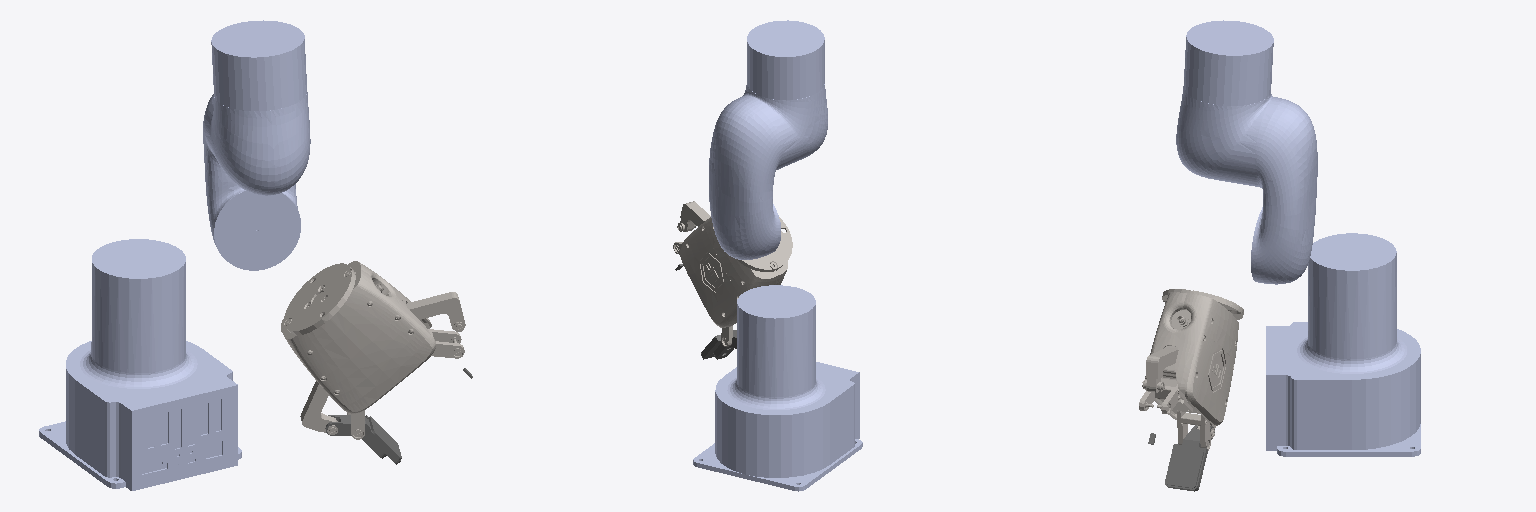
URDF robot description (Lite6SW3):
<?xml version="1.0" encoding="utf-8"?>
<!-- This URDF was automatically created by SolidWorks to URDF Exporter! Originally created by [author] ([email redacted]) 
     Commit Version: 1.6.0-1-g15f4949  Build Version: 1.6.7594.29634
     For more information, please see http://wiki.ros.org/sw_urdf_exporter -->
<robot
  name="Lite6SW3">
  <link
    name="Link0">
    <inertial>
      <origin
        xyz="0.0187322287468848 -6.56268388412881E-05 -0.0018327007667883"
        rpy="0 0 0" />
      <mass
        value="1.65199774001772" />
      <inertia
        ixx="0.00540779041066965"
        ixy="-1.72431674672101E-07"
        ixz="-8.16857492341207E-08"
        iyy="0.0050429459667963"
        iyz="-0.000338002907863305"
        izz="0.00334480903849763" />
    </inertial>
    <visual>
      <origin
        xyz="0 0 0"
        rpy="0 0 0" />
      <geometry>
        <mesh
          filename="package://Lite6SW3/meshes/Link0.STL" />
      </geometry>
      <material
        name="">
        <color
          rgba="0.792156862745098 0.819607843137255 0.933333333333333 1" />
      </material>
    </visual>
    <collision>
      <origin
        xyz="0 0 0"
        rpy="0 0 0" />
      <geometry>
        <mesh
          filename="package://Lite6SW3/meshes/Link0.STL" />
      </geometry>
    </collision>
  </link>
  <link
    name="Link1">
    <inertial>
      <origin
        xyz="0.0151275932238549 0.0579204493545035 2.19551584875691E-06"
        rpy="0 0 0" />
      <mass
        value="0.768991147574956" />
      <inertia
        ixx="0.000943626498667019"
        ixy="-0.000157292714284293"
        ixz="2.15996612593555E-07"
        iyy="0.00109494607083285"
        iyz="-2.22121831785138E-07"
        izz="0.00140822699612183" />
    </inertial>
    <visual>
      <origin
        xyz="0 0 0"
        rpy="0 0 0" />
      <geometry>
        <mesh
          filename="package://Lite6SW3/meshes/Link1.STL" />
      </geometry>
      <material
        name="">
        <color
          rgba="0.792156862745098 0.819607843137255 0.933333333333333 1" />
      </material>
    </visual>
    <collision>
      <origin
        xyz="0 0 0"
        rpy="0 0 0" />
      <geometry>
        <mesh
          filename="package://Lite6SW3/meshes/Link1.STL" />
      </geometry>
    </collision>
  </link>
  <joint
    name="Joint1"
    type="revolute">
    <origin
      xyz="0.01873370459204 0.00814213077337103 0.108012813287898"
      rpy="1.5707963267949 0 0.4446615678785" />
    <parent
      link="Link0" />
    <child
      link="Link1" />
    <axis
      xyz="0 1 0" />
    <limit
      lower="-3.14"
      upper="3.14"
      effort="187"
      velocity="1" />
  </joint>
  <link
    name="Link2">
    <inertial>
      <origin
        xyz="0.0393674312059471 0.114689083476682 -1.16044806437732E-07"
        rpy="0 0 0" />
      <mass
        value="1.07641986433027" />
      <inertia
        ixx="0.00746475214661092"
        ixy="0.000698701711095762"
        ixz="1.87680189054837E-09"
        iyy="0.00101416666242391"
        iyz="2.16807495952089E-08"
        izz="0.0076258806756479" />
    </inertial>
    <visual>
      <origin
        xyz="0 0 0"
        rpy="0 0 0" />
      <geometry>
        <mesh
          filename="package://Lite6SW3/meshes/Link2.STL" />
      </geometry>
      <material
        name="">
        <color
          rgba="0.792156862745098 0.819607843137255 0.933333333333333 1" />
      </material>
    </visual>
    <collision>
      <origin
        xyz="0 0 0"
        rpy="0 0 0" />
      <geometry>
        <mesh
          filename="package://Lite6SW3/meshes/Link2.STL" />
      </geometry>
    </collision>
  </link>
  <joint
    name="Joint2"
    type="revolute">
    <origin
      xyz="0.0634024303578008 0.0700027545007157 0"
      rpy="0.166849117202446 0 0" />
    <parent
      link="Link1" />
    <child
      link="Link2" />
    <axis
      xyz="1 0 0" />
    <limit
      lower="-3.14"
      upper="3.14"
      effort="187"
      velocity="1" />
  </joint>
  <link
    name="Link3">
    <inertial>
      <origin
        xyz="-0.0609958261995253 -0.0374546172672344 -0.000573221171941529"
        rpy="0 0 0" />
      <mass
        value="0.765154285498414" />
      <inertia
        ixx="0.00178429539911025"
        ixy="-9.39526332109624E-05"
        ixz="4.19008160447528E-06"
        iyy="0.000627175753759267"
        iyz="-6.64736636610338E-05"
        izz="0.00183654237180399" />
    </inertial>
    <visual>
      <origin
        xyz="0 0 0"
        rpy="0 0 0" />
      <geometry>
        <mesh
          filename="package://Lite6SW3/meshes/Link3.STL" />
      </geometry>
      <material
        name="">
        <color
          rgba="0.792156862745098 0.819607843137255 0.933333333333333 1" />
      </material>
    </visual>
    <collision>
      <origin
        xyz="0 0 0"
        rpy="0 0 0" />
      <geometry>
        <mesh
          filename="package://Lite6SW3/meshes/Link3.STL" />
      </geometry>
    </collision>
  </link>
  <joint
    name="Joint3"
    type="revolute">
    <origin
      xyz="0 0.199999999987166 0"
      rpy="-1.79231046331988 0 0" />
    <parent
      link="Link2" />
    <child
      link="Link3" />
    <axis
      xyz="1 0 0" />
    <limit
      lower="-3.14"
      upper="3.14"
      effort="187"
      velocity="1" />
  </joint>
  <link
    name="Link4">
    <inertial>
      <origin
        xyz="0.0251920501140432 -6.41817619190244E-07 -0.0959447863668743"
        rpy="0 0 0" />
      <mass
        value="1.19946358045584" />
      <inertia
        ixx="0.00242244309778775"
        ixy="-2.18181320847622E-08"
        ixz="0.000758521584574718"
        iyy="0.00315206957190798"
        iyz="2.52477601874618E-09"
        izz="0.00172762941740964" />
    </inertial>
    <visual>
      <origin
        xyz="0 0 0"
        rpy="0 0 0" />
      <geometry>
        <mesh
          filename="package://Lite6SW3/meshes/Link4.STL" />
      </geometry>
      <material
        name="">
        <color
          rgba="0.792156862745098 0.819607843137255 0.933333333333333 1" />
      </material>
    </visual>
    <collision>
      <origin
        xyz="0 0 0"
        rpy="0 0 0" />
      <geometry>
        <mesh
          filename="package://Lite6SW3/meshes/Link4.STL" />
      </geometry>
    </collision>
  </link>
  <joint
    name="Joint4"
    type="revolute">
    <origin
      xyz="-0.063102409341005 -0.0870000000340598 -0.0367635042013723"
      rpy="0 0 0.821810771980739" />
    <parent
      link="Link3" />
    <child
      link="Link4" />
    <axis
      xyz="0 0 1" />
    <limit
      lower="-3.14"
      upper="3.14"
      effort="187"
      velocity="1" />
  </joint>
  <link
    name="Link5">
    <inertial>
      <origin
        xyz="0.00343463057873998 -1.97179458061303E-06 -0.00164401922371229"
        rpy="0 0 0" />
      <mass
        value="0.407452669039166" />
      <inertia
        ixx="0.000358680591599888"
        ixy="-1.00900293705433E-08"
        ixz="-6.27685977104768E-06"
        iyy="0.000380454223401458"
        iyz="9.57050468134867E-09"
        izz="0.000334589727767483" />
    </inertial>
    <visual>
      <origin
        xyz="0 0 0"
        rpy="0 0 0" />
      <geometry>
        <mesh
          filename="package://Lite6SW3/meshes/Link5.STL" />
      </geometry>
      <material
        name="">
        <color
          rgba="0.792156862745098 0.819607843137255 0.933333333333333 1" />
      </material>
    </visual>
    <collision>
      <origin
        xyz="0 0 0"
        rpy="0 0 0" />
      <geometry>
        <mesh
          filename="package://Lite6SW3/meshes/Link5.STL" />
      </geometry>
    </collision>
  </link>
  <joint
    name="Joint5"
    type="revolute">
    <origin
      xyz="0 0 -0.190346492889003"
      rpy="-0.670253176766057 0 0" />
    <parent
      link="Link4" />
    <child
      link="Link5" />
    <axis
      xyz="1 0 0" />
    <limit
      lower="-3.14"
      upper="3.14"
      effort="24"
      velocity="1" />
  </joint>
  <link
    name="Link6">
    <inertial>
      <origin
        xyz="-0.000205287529503453 -0.000431985584820965 -0.0521159158328269"
        rpy="0 0 0" />
      <mass
        value="0.0844258078209592" />
      <inertia
        ixx="3.65814863001815E-05"
        ixy="-2.96217183969848E-08"
        ixz="3.62773534330086E-08"
        iyy="3.631438997443E-05"
        iyz="-6.16706110817421E-08"
        izz="6.56234046220339E-05" />
    </inertial>
    <visual>
      <origin
        xyz="0 0 0"
        rpy="0 0 0" />
      <geometry>
        <mesh
          filename="package://Lite6SW3/meshes/Link6.STL" />
      </geometry>
      <material
        name="">
        <color
          rgba="0.792156862745098 0.819607843137255 0.933333333333333 1" />
      </material>
    </visual>
    <collision>
      <origin
        xyz="0 0 0"
        rpy="0 0 0" />
      <geometry>
        <mesh
          filename="package://Lite6SW3/meshes/Link6.STL" />
      </geometry>
    </collision>
  </link>
  <joint
    name="Joint6"
    type="revolute">
    <origin
      xyz="0 0 0"
      rpy="0 0 2.30520604102373" />
    <parent
      link="Link5" />
    <child
      link="Link6" />
    <axis
      xyz="0 0 1" />
    <limit
      lower="-3.14"
      upper="3.14"
      effort="24"
      velocity="1" />
  </joint>
  <link
    name="Link_hand">
    <inertial>
      <origin
        xyz="0.0108713499627958 0.124749513433011 0.161319806956366"
        rpy="0 0 0" />
      <mass
        value="2.83243689369596E-05" />
      <inertia
        ixx="2.6242801210731E-08"
        ixy="2.44461258450611E-10"
        ixz="-1.93357940811343E-10"
        iyy="3.26967390920057E-08"
        iyz="1.5561456149065E-09"
        izz="5.63666155419609E-08" />
    </inertial>
    <visual>
      <origin
        xyz="0 0 0"
        rpy="0 0 0" />
      <geometry>
        <mesh
          filename="package://Lite6SW3/meshes/Link_hand.STL" />
      </geometry>
      <material
        name="">
        <color
          rgba="0.776470588235294 0.756862745098039 0.737254901960784 1" />
      </material>
    </visual>
    <collision>
      <origin
        xyz="0 0 0"
        rpy="0 0 0" />
      <geometry>
        <mesh
          filename="package://Lite6SW3/meshes/Link_hand.STL" />
      </geometry>
    </collision>
  </link>
  <joint
    name="Jointhand"
    type="fixed">
    <origin
      xyz="-0.14399 -0.11062 -0.0009206"
      rpy="-1.5708 0 -0.85704" />
    <parent
      link="Link6" />
    <child
      link="Link_hand" />
    <axis
      xyz="0 0 0" />
    <limit
      lower="0"
      effort="0"
      velocity="0" />
  </joint>
  <link
    name="F1">
    <inertial>
      <origin
        xyz="-0.051842 0.1974 0.18027"
        rpy="0 0 0" />
      <mass
        value="0.021571" />
      <inertia
        ixx="6.777E-06"
        ixy="-1.3957E-06"
        ixz="-6.2093E-12"
        iyy="1.9659E-06"
        iyz="-5.4282E-12"
        izz="6.4615E-06" />
    </inertial>
    <visual>
      <origin
        xyz="0 0 0"
        rpy="0 0 0" />
      <geometry>
        <mesh
          filename="package://Lite6SW3/meshes/F1.STL" />
      </geometry>
      <material
        name="">
        <color
          rgba="0.49804 0.49804 0.49804 1" />
      </material>
    </visual>
    <collision>
      <origin
        xyz="0 0 0"
        rpy="0 0 0" />
      <geometry>
        <mesh
          filename="package://Lite6SW3/meshes/F1.STL" />
      </geometry>
    </collision>
  </link>
  <joint
    name="Joint_f1"
    type="prismatic">
    <origin
      xyz="0.01 0 0"
      rpy="0 0 0" />
    <parent
      link="Link_hand" />
    <child
      link="F1" />
    <axis
      xyz="1 0 0" />
    <limit
      lower="0"
      upper="0.04"
      effort="200"
      velocity="0.1" />
    <dynamics
      damping="10"
      friction="0" />
  </joint>
  <link
    name="F1point">
    <inertial>
      <origin
        xyz="4.3576E-14 -6.4379E-13 0.001"
        rpy="0 0 0" />
      <mass
        value="0.00013" />
      <inertia
        ixx="3.1417E-10"
        ixy="5.493E-25"
        ixz="6.6239E-25"
        iyy="1.1267E-09"
        iyz="-1.8689E-21"
        izz="1.3542E-09" />
    </inertial>
    <visual>
      <origin
        xyz="0 0 0"
        rpy="0 0 0" />
      <geometry>
        <mesh
          filename="package://Lite6SW3/meshes/F1point.STL" />
      </geometry>
      <material
        name="">
        <color
          rgba="0.49804 0.49804 0.49804 1" />
      </material>
    </visual>
    <collision>
      <origin
        xyz="0 0 0"
        rpy="0 0 0" />
      <geometry>
        <mesh
          filename="package://Lite6SW3/meshes/F1point.STL" />
      </geometry>
    </collision>
  </link>
  <joint
    name="f1_pjoint"
    type="fixed">
    <origin
      xyz="-0.0437490031135737 0.208719338742205 0.180271456819914"
      rpy="1.5707963267949 0 -1.5707963267949" />
    <parent
      link="F1" />
    <child
      link="F1point" />
    <axis
      xyz="0 0 0" />
  </joint>
  <link
    name="F2">
    <inertial>
      <origin
        xyz="0.052983 0.1974 0.18027"
        rpy="0 0 0" />
      <mass
        value="0.021571" />
      <inertia
        ixx="6.7769E-06"
        ixy="1.3956E-06"
        ixz="5.3583E-12"
        iyy="1.9659E-06"
        iyz="-8.9468E-13"
        izz="6.4615E-06" />
    </inertial>
    <visual>
      <origin
        xyz="0 0 0"
        rpy="0 0 0" />
      <geometry>
        <mesh
          filename="package://Lite6SW3/meshes/F2.STL" />
      </geometry>
      <material
        name="">
        <color
          rgba="0.49804 0.49804 0.49804 1" />
      </material>
    </visual>
    <collision>
      <origin
        xyz="0 0 0"
        rpy="0 0 0" />
      <geometry>
        <mesh
          filename="package://Lite6SW3/meshes/F2.STL" />
      </geometry>
    </collision>
  </link>
  <joint
    name="Joint_f2"
    type="prismatic">
    <origin
      xyz="0.01 0 0"
      rpy="0 0 0" />
    <parent
      link="Link_hand" />
    <child
      link="F2" />
    <axis
      xyz="-1 0 0" />
    <limit
      lower="0"
      upper="0.04"
      effort="200"
      velocity="0.1" />
    <dynamics
      damping="10"
      friction="0" />
    <mimic
      joint="Joint_f1"
      multiplier="1"
      offset="0" />
  </joint>
  <link
    name="F2point">
    <inertial>
      <origin
        xyz="4.3493E-14 -1.0085E-13 0.001"
        rpy="0 0 0" />
      <mass
        value="0.00013" />
      <inertia
        ixx="3.1417E-10"
        ixy="8.2718E-25"
        ixz="-1.4379E-25"
        iyy="1.1267E-09"
        iyz="-1.8687E-21"
        izz="1.3542E-09" />
    </inertial>
    <visual>
      <origin
        xyz="0 0 0"
        rpy="0 0 0" />
      <geometry>
        <mesh
          filename="package://Lite6SW3/meshes/F2point.STL" />
      </geometry>
      <material
        name="">
        <color
          rgba="0.49804 0.49804 0.49804 1" />
      </material>
    </visual>
    <collision>
      <origin
        xyz="0 0 0"
        rpy="0 0 0" />
      <geometry>
        <mesh
          filename="package://Lite6SW3/meshes/F2point.STL" />
      </geometry>
    </collision>
  </link>
  <joint
    name="f2_pjoint"
    type="fixed">
    <origin
      xyz="0.04489 0.20872 0.18027"
      rpy="-1.5708 0 -1.5708" />
    <parent
      link="F2" />
    <child
      link="F2point" />
    <axis
      xyz="0 0 0" />
  </joint>
  <link
    name="GripSite">
    <inertial>
      <origin
        xyz="-0.00298554690175568 0.00360975290050535 -0.0012805912762632"
        rpy="0 0 0" />
      <mass
        value="0.000523598775598299" />
      <inertia
        ixx="5.23598775598299E-09"
        ixy="-1.93870456067116E-26"
        ixz="-5.16987882845642E-26"
        iyy="5.23598775598299E-09"
        iyz="-7.75481824268463E-26"
        izz="5.23598775598299E-09" />
    </inertial>
    <visual>
      <origin
        xyz="0 0 0"
        rpy="0 0 0" />
      <geometry>
        <mesh
          filename="package://Lite6SW3/meshes/GripSite.STL" />
      </geometry>
      <material
        name="">
        <color
          rgba="0.792156862745098 0.819607843137255 0.933333333333333 1" />
      </material>
    </visual>
  </link>
  <joint
    name="gripjoint"
    type="fixed">
    <origin
      xyz="0.010713 0.21358 0.18077"
      rpy="-0.12166 0.51995 2.3544" />
    <parent
      link="Link_hand" />
    <child
      link="GripSite" />
    <axis
      xyz="0 0 0" />
  </joint>
</robot>

--- What the picture shows (computed from the rendered views, not written in the file) ---
The picture shows the robot from 3 angles, left to right: view 1: azimuth 30°, elevation 25°; view 2: azimuth 150°, elevation 25°; view 3: azimuth 270°, elevation 25°; orthographic projection.
Robot: Lite6SW3 — 13 links, 12 joints (6 revolute, 2 prismatic, 4 fixed); root link Link0; default pose: all joints at 0.
Links seen in each view (by area): view 1: Link0, Link4, Link_hand, F2; view 2: Link0, Link4, Link_hand, F2; view 3: Link0, Link4, Link_hand, F2.
Link boxes in pixels (x1,y1,x2,y2): Link0: (39, 239, 241, 490); Link4: (203, 20, 310, 270); Link_hand: (281, 261, 465, 439); F2: (325, 415, 401, 464); Link0: (693, 285, 862, 491); Link4: (709, 20, 827, 259); Link_hand: (673, 201, 792, 346); F2: (701, 330, 736, 359); Link0: (1266, 233, 1420, 456); Link4: (1176, 20, 1317, 284); Link_hand: (1139, 289, 1243, 450); F2: (1165, 425, 1214, 491).
Bounding box of the posed robot: 0.2868 × 0.2542 × 0.4122 m (x, y, z).
5 mesh visuals loaded from 13 distinct referenced files (5 binary STL); not drawn: 8 (reference not matched to a file when rendering).